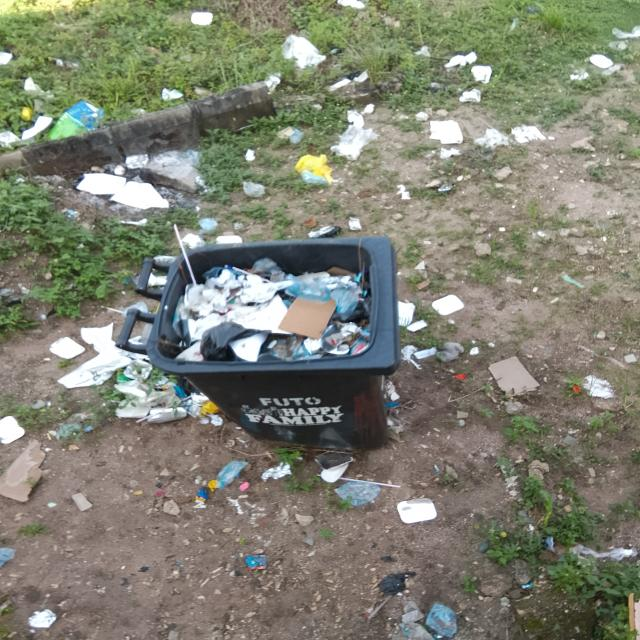full: (158, 236, 400, 373)
